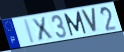2: (99, 5, 117, 32)
3: (51, 14, 67, 39)
I: (23, 18, 36, 45)
M: (62, 10, 88, 37)
V: (80, 7, 98, 33)
X: (30, 16, 55, 42)
